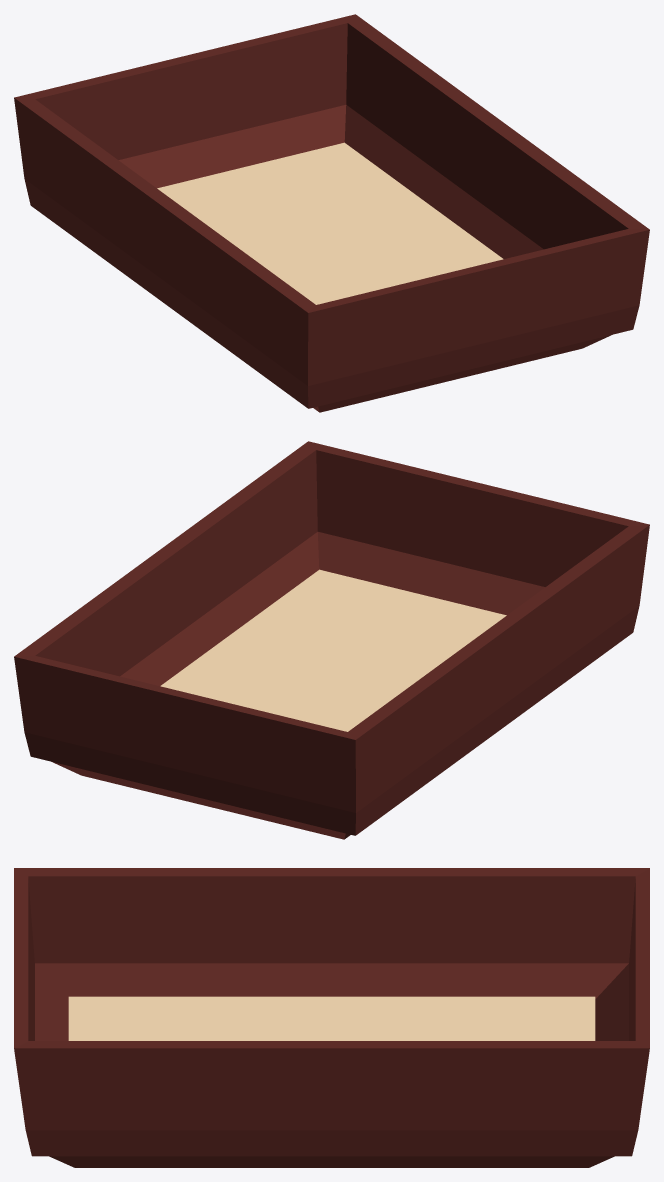
Rendered from hamster_cage.fbx.
The picture shows the model from 3 angles, top to bottom: view 1: azimuth 30°, elevation 25°; view 2: azimuth 150°, elevation 25°; view 3: azimuth 270°, elevation 25°; orthographic projection. The views are drawn at different scales.
Visible parts, largest first — view 1: Cube; view 2: Cube; view 3: Cube.
Part boxes in pixels (x1,y1,x2,y2): Cube: (14,14,649,412); Cube: (14,441,649,839); Cube: (14,868,649,1167).
Size of the model in its own units: 199 by 134 by 48.47.
